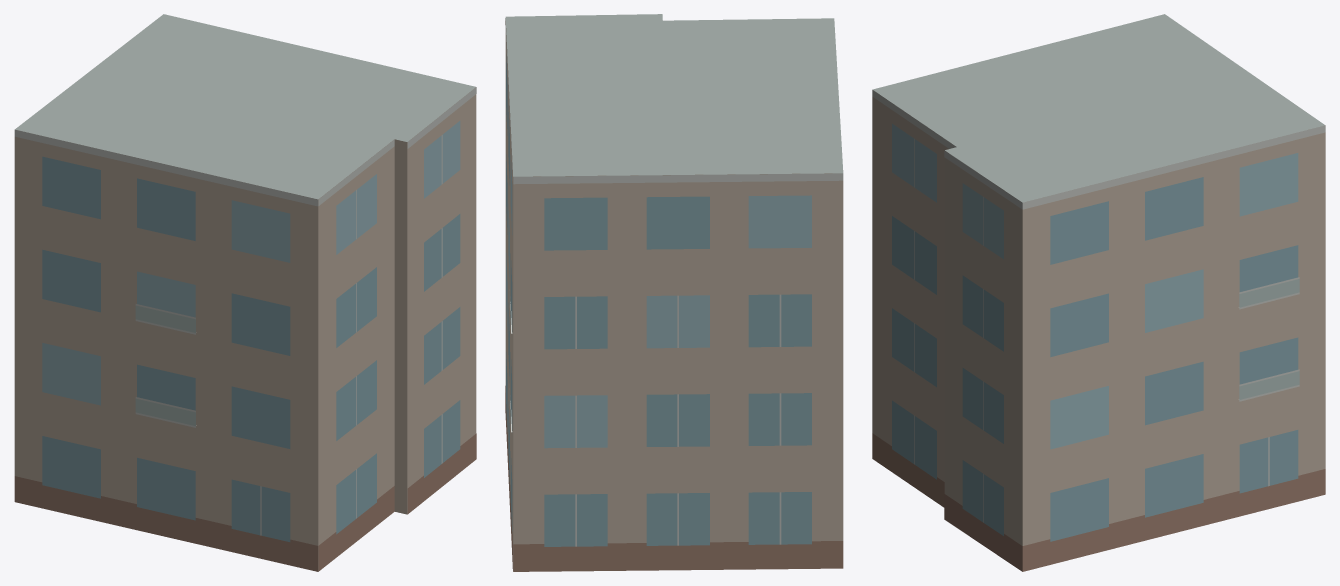
File: survey-upis-32485617.glb
The picture shows the model from 3 angles, left to right: view 1: azimuth 30°, elevation 25°; view 2: azimuth 150°, elevation 25°; view 3: azimuth 270°, elevation 25°; orthographic projection. The views are drawn at different scales.
Visible parts, largest first — view 1: survey-upis-32485617.tmp; view 2: survey-upis-32485617.tmp; view 3: survey-upis-32485617.tmp.
Boxes of the visible parts, bbox=[...] form: survey-upis-32485617.tmp: bbox=[14, 14, 476, 571]; survey-upis-32485617.tmp: bbox=[505, 14, 843, 571]; survey-upis-32485617.tmp: bbox=[872, 14, 1325, 571].
Bounding box in the file's own units: 14.06 × 12.82 × 14.27.
